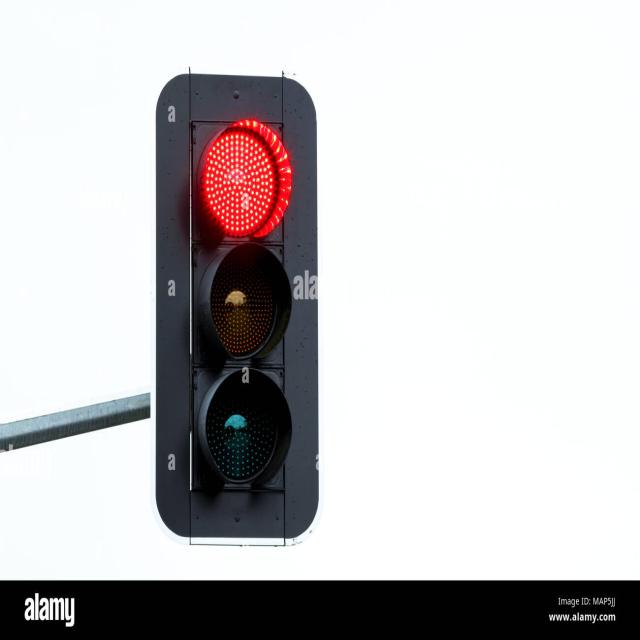red: (193, 105, 289, 242)
